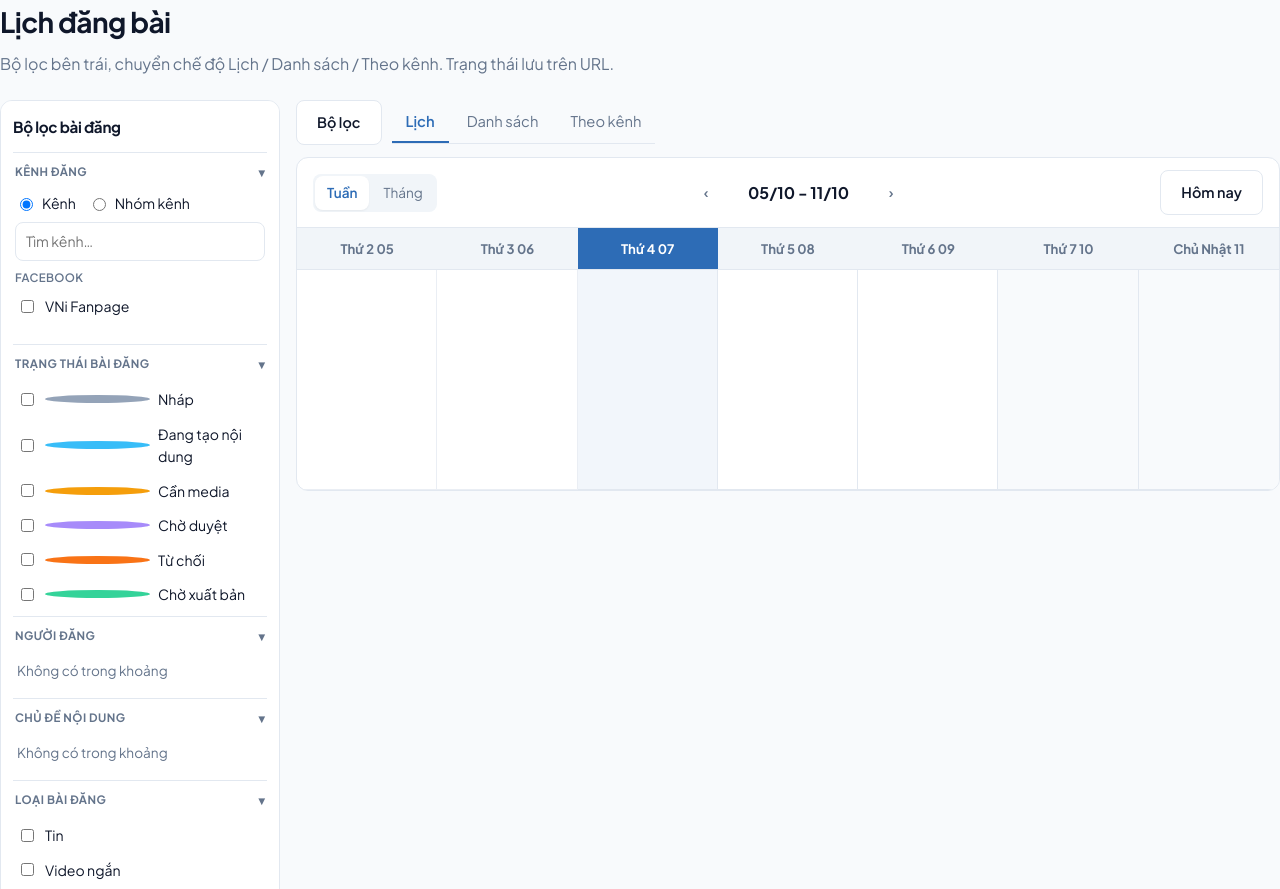
Test: PostCalendar density/week trên URL — AC e90862c2 (calendar-week-url-test) › (d) Chuyển Tháng → bỏ density; week không ảnh hưởng dạng Tháng
Check: the element with test id "week-view" is shown, box [297,228,1279,490]
Click the tab "Tháng" at {"x": 403, "y": 193}, box [372,176,435,210]
(page scrolled)
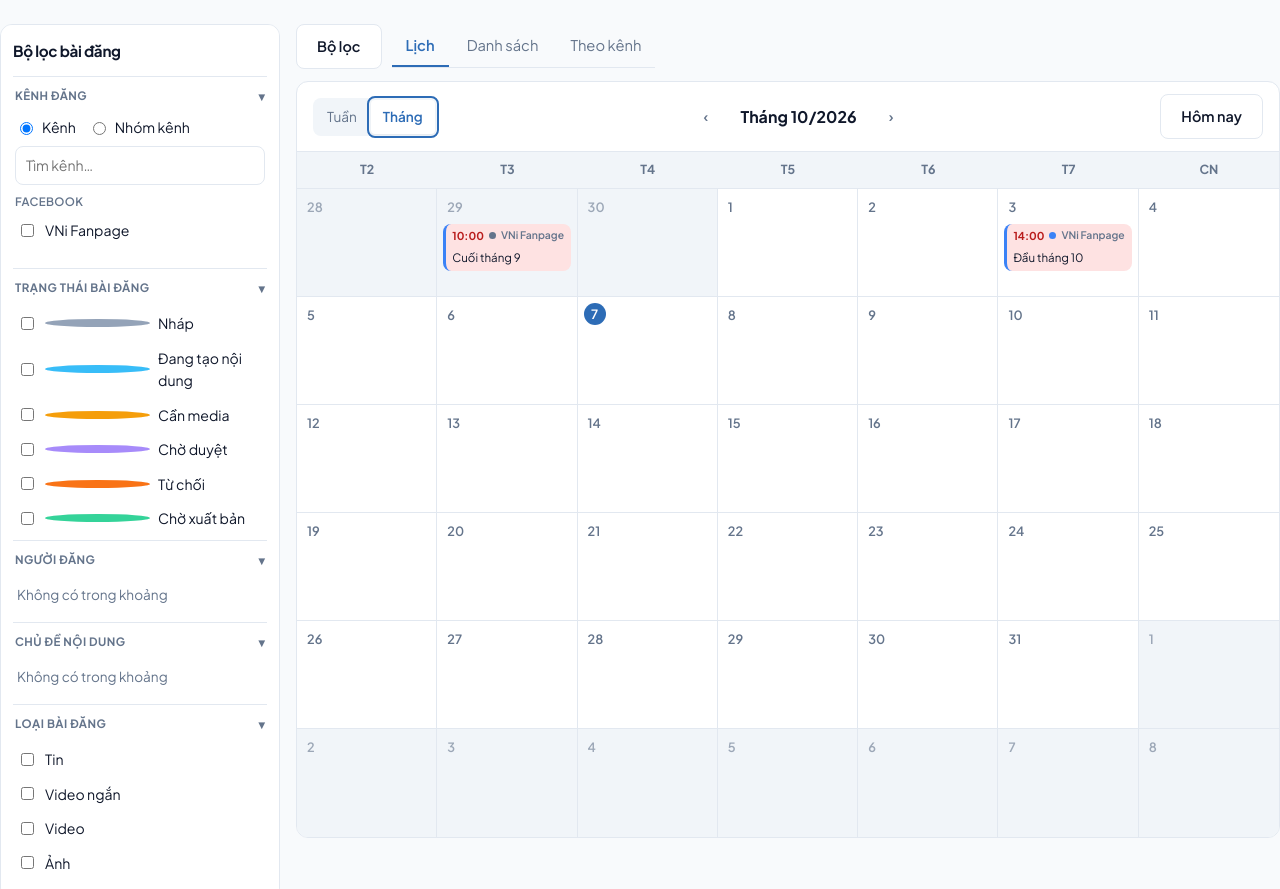
Check: the element with test id "month-grid" is shown, box [297,190,1279,838]
Check: the element with test id "week-view" is gone
